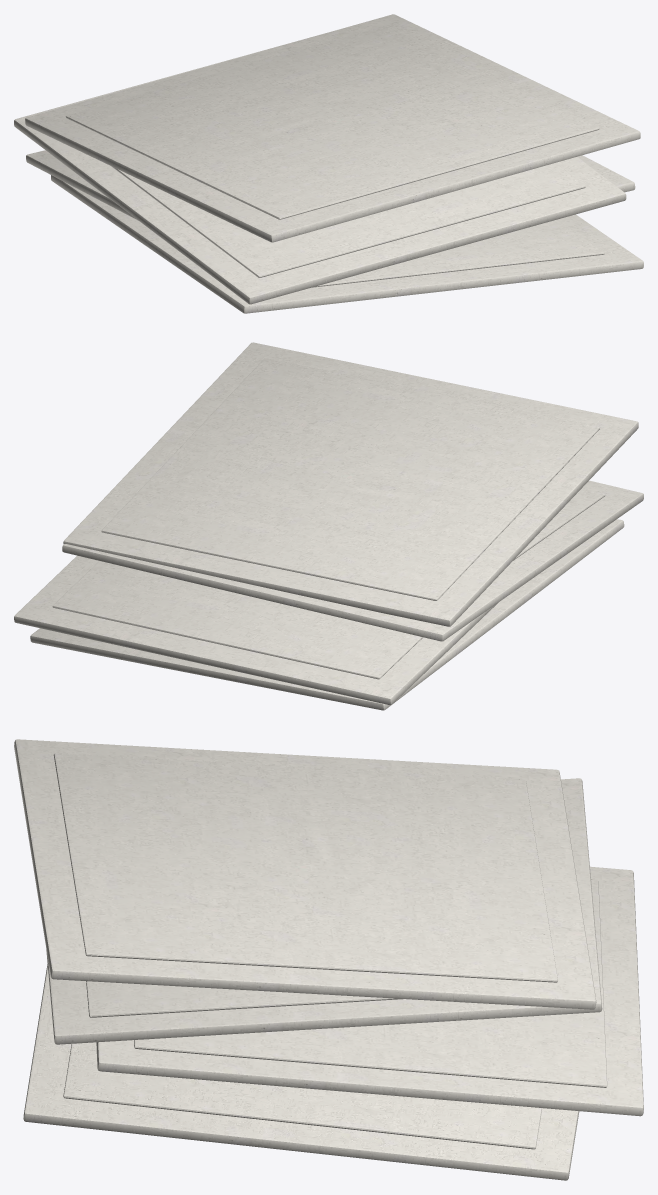
The model's file is REV-GES-002_anim.glb.
3 views of the same model, one above another, from view 1: azimuth 30°, elevation 25°; view 2: azimuth 150°, elevation 25°; view 3: azimuth 270°, elevation 25° (orthographic). The views are drawn at different scales.
Parts seen in each view (by area): view 1: REV-GES-002_anim3, REV-GES-002_anim2, REV-GES-002_anim0, REV-GES-002_anim1; view 2: REV-GES-002_anim3, REV-GES-002_anim1, REV-GES-002_anim2, REV-GES-002_anim0; view 3: REV-GES-002_anim3, REV-GES-002_anim1, REV-GES-002_anim0, REV-GES-002_anim2.
Boxes of the visible parts, x1,y1,x2,y2 form: REV-GES-002_anim3: (25, 14, 640, 242); REV-GES-002_anim2: (14, 37, 626, 304); REV-GES-002_anim0: (51, 175, 643, 313); REV-GES-002_anim1: (26, 150, 635, 220); REV-GES-002_anim3: (63, 342, 638, 626); REV-GES-002_anim1: (14, 555, 498, 704); REV-GES-002_anim2: (62, 480, 643, 641); REV-GES-002_anim0: (30, 519, 624, 710); REV-GES-002_anim3: (14, 739, 596, 1009); REV-GES-002_anim1: (96, 866, 643, 1116); REV-GES-002_anim0: (23, 964, 579, 1180); REV-GES-002_anim2: (46, 778, 602, 1044).
Size of the model in its own units: 0.6719 by 0.2421 by 0.6887.
1 material, 1 textured.
